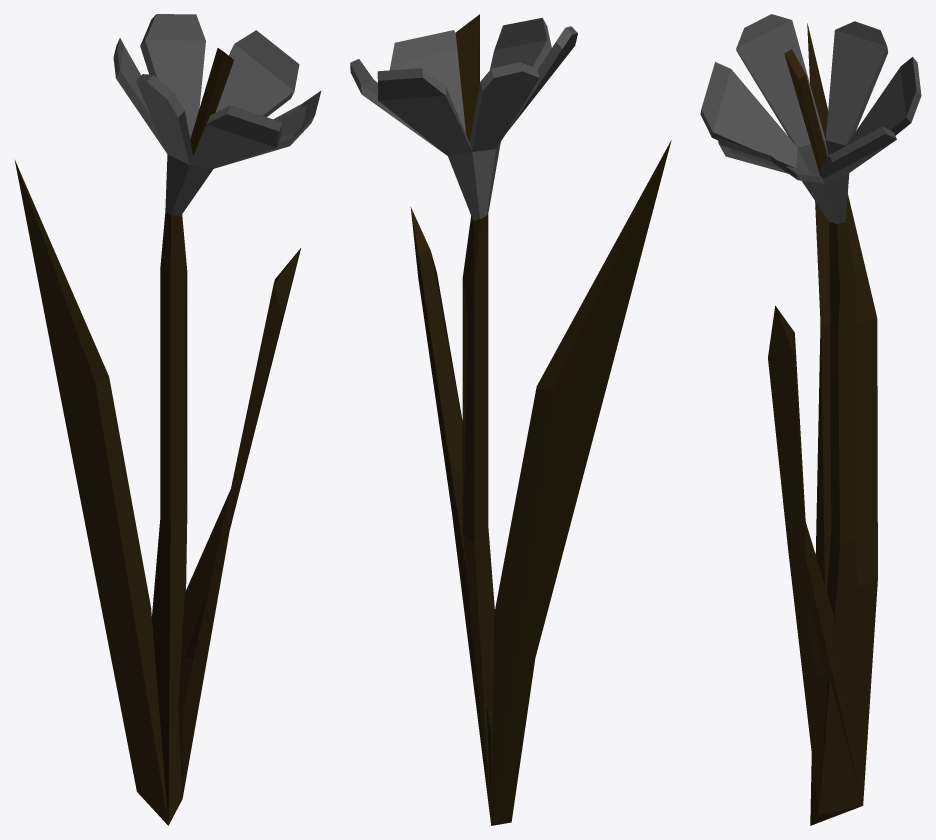
File: flowerKrokus02.fbx
The picture shows the model from 3 angles, left to right: view 1: azimuth 30°, elevation 25°; view 2: azimuth 150°, elevation 25°; view 3: azimuth 270°, elevation 25°; orthographic projection. The views are drawn at different scales.
Visible parts, largest first — view 1: Cylinder; view 2: Cylinder; view 3: Cylinder.
Part boxes in pixels (bbox=[...]): Cylinder: bbox=[14, 14, 321, 825]; Cylinder: bbox=[350, 14, 671, 825]; Cylinder: bbox=[700, 14, 921, 825].
Bounding box in the file's own units: 0.1628 × 0.4077 × 0.1024.
